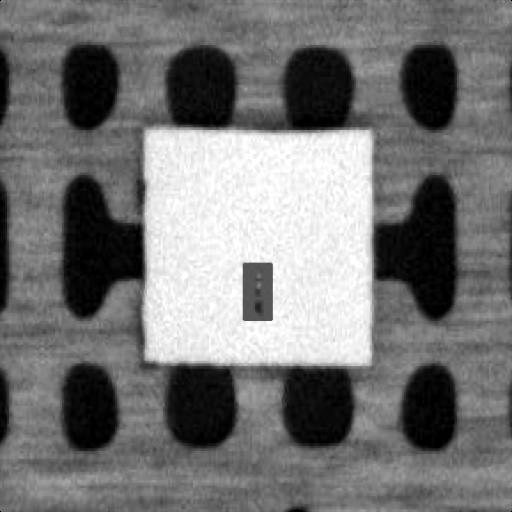DIE_INK: (361, 174, 406, 212)
